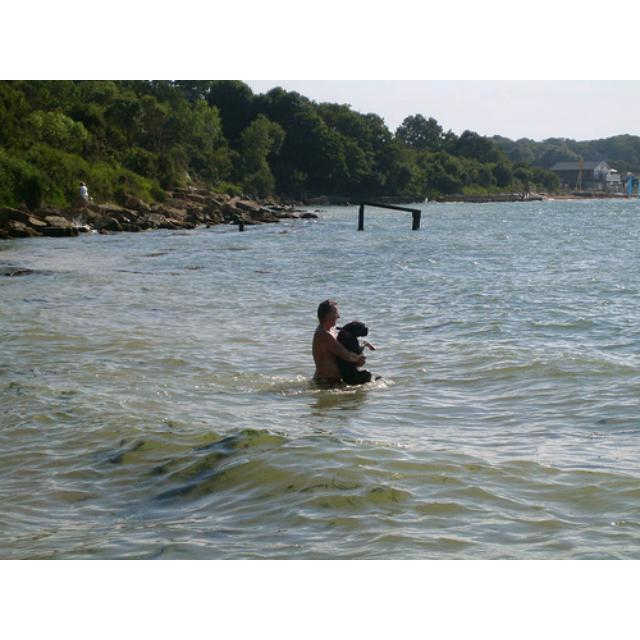human: (311, 297, 348, 391)
